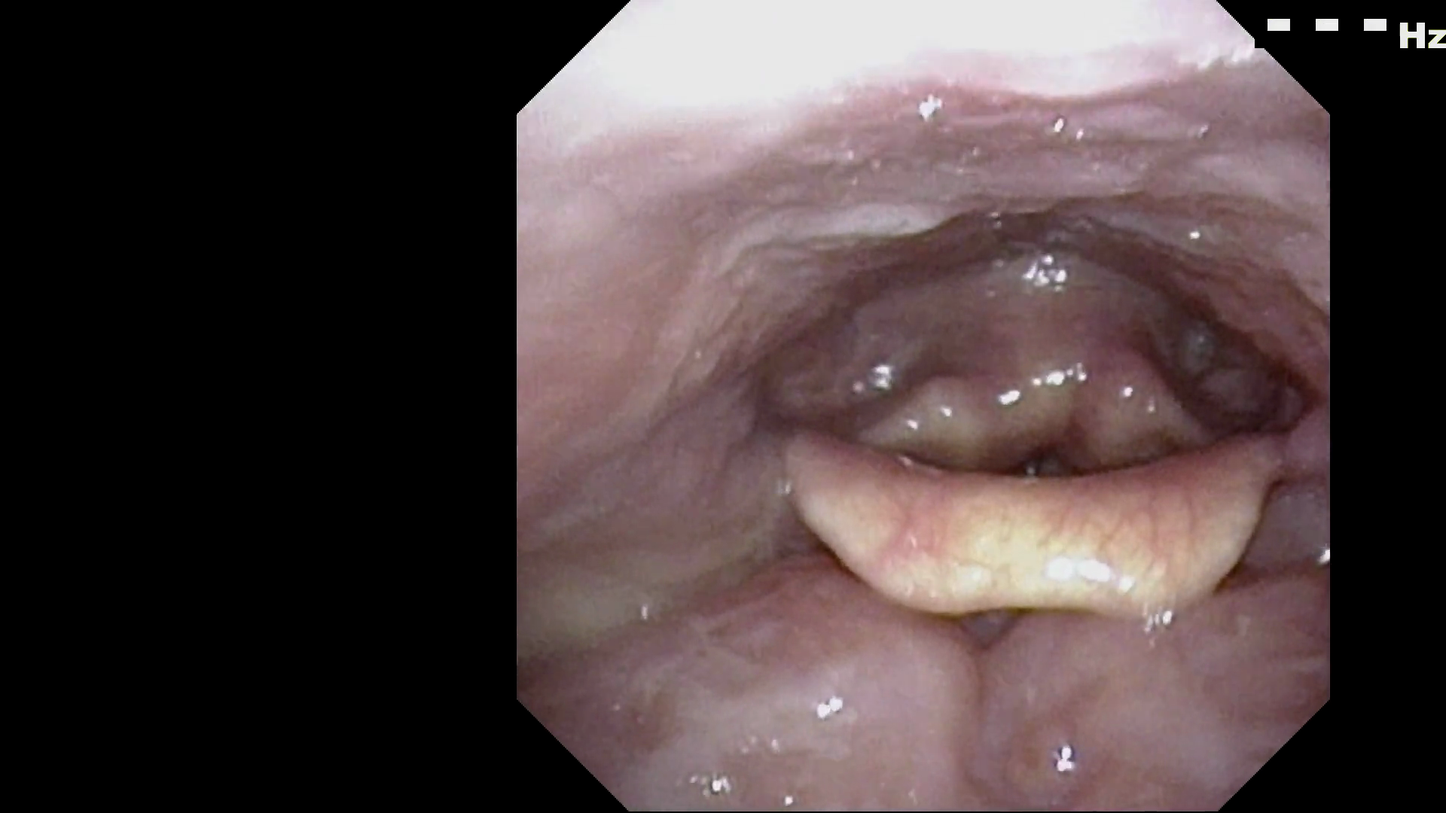epiglottis: (778, 393, 1302, 632)
trachea: (968, 387, 1115, 541)
